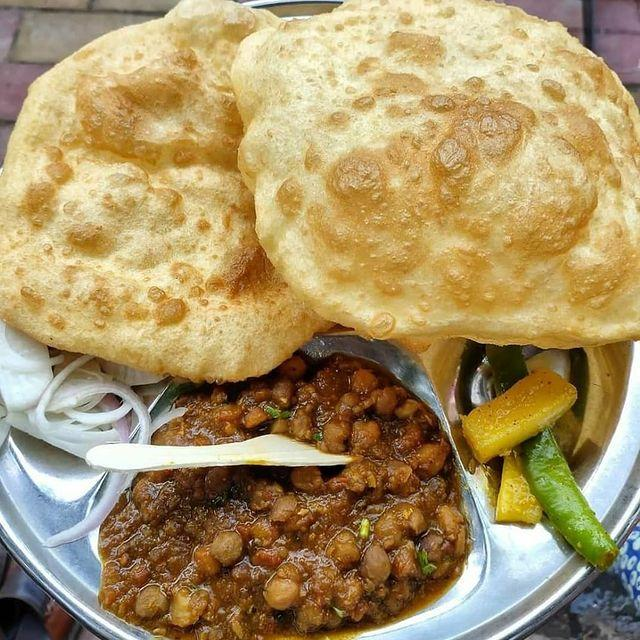Chole: (113, 384, 460, 640)
